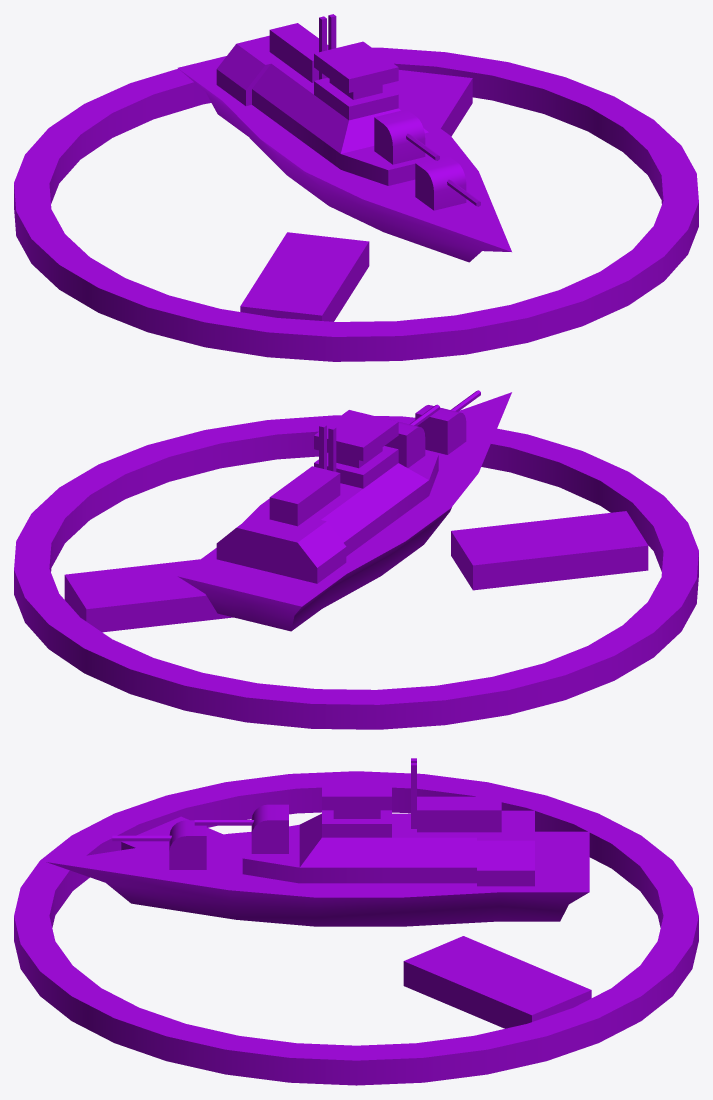
The model's file is naval_exclude.fbx.
3 views of the same model, one above another, from view 1: azimuth 30°, elevation 25°; view 2: azimuth 150°, elevation 25°; view 3: azimuth 270°, elevation 25° (orthographic).
Parts seen in each view (by area): view 1: Плоскость; view 2: Плоскость; view 3: Плоскость.
Part boxes in pixels (<box>): Плоскость: <box>14,14,698,361</box>; Плоскость: <box>14,390,698,729</box>; Плоскость: <box>14,758,698,1085</box>.
Bounding box in the file's own units: 250 × 72.02 × 250.
